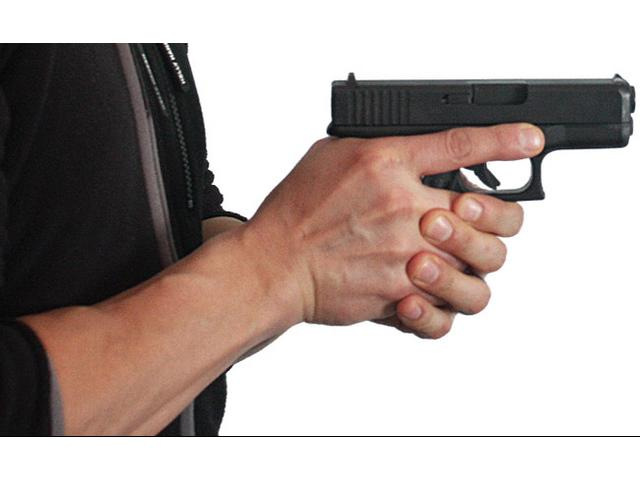pistol: (321, 74, 636, 333)
